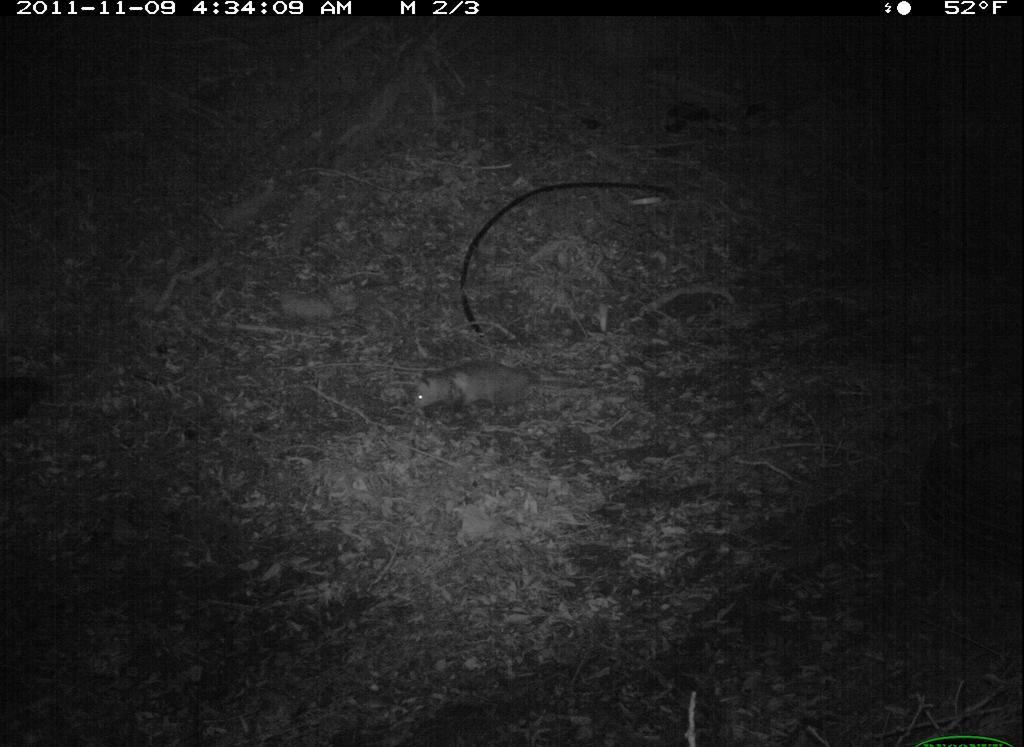opossum: (411, 353, 656, 450)
